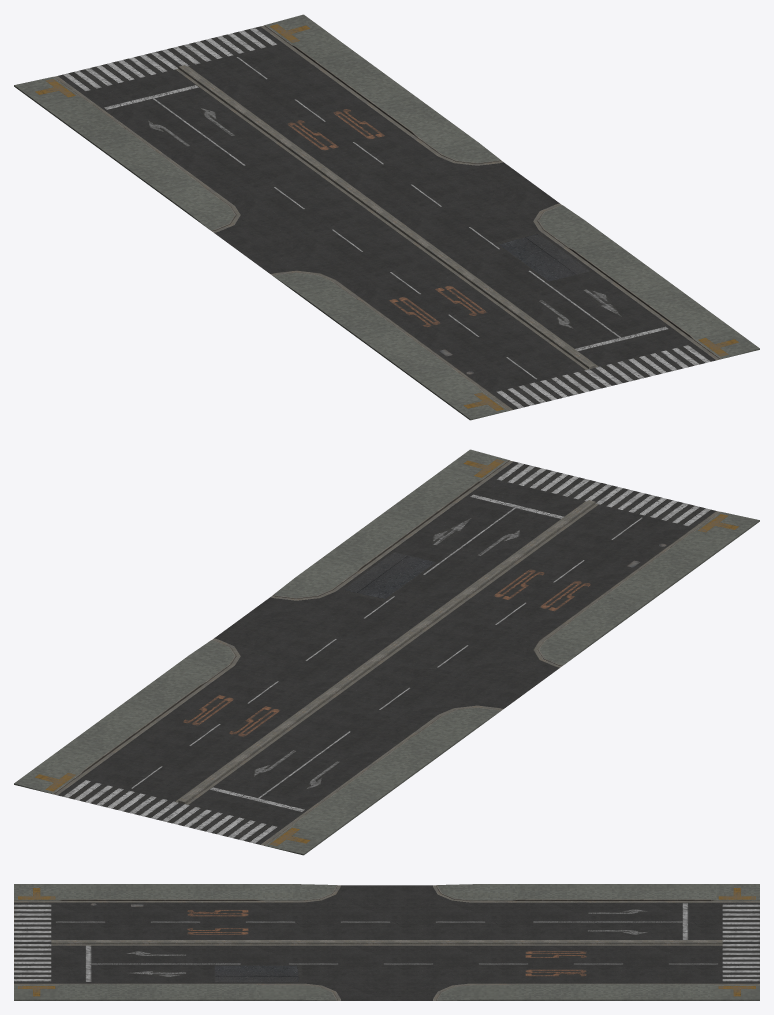
File: jctlowRoad22mB_b.fbx
3 views of the same model, one above another, from view 1: azimuth 30°, elevation 25°; view 2: azimuth 150°, elevation 25°; view 3: azimuth 270°, elevation 25° (orthographic). The views are drawn at different scales.
Parts seen in each view (by area): view 1: jctlowRoad22mB_b; view 2: jctlowRoad22mB_b; view 3: jctlowRoad22mB_b.
Part boxes in pixels (x1,y1,x2,y2): jctlowRoad22mB_b: [14, 14, 759, 420]; jctlowRoad22mB_b: [14, 449, 759, 855]; jctlowRoad22mB_b: [14, 884, 759, 1000].
Bounding box in the file's own units: 2200 × 15 × 6000.
Materials: 4 (4 with a texture image).
